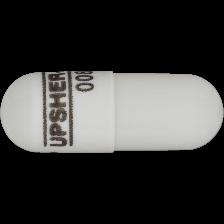0245-0085: (0, 0, 224, 224)
